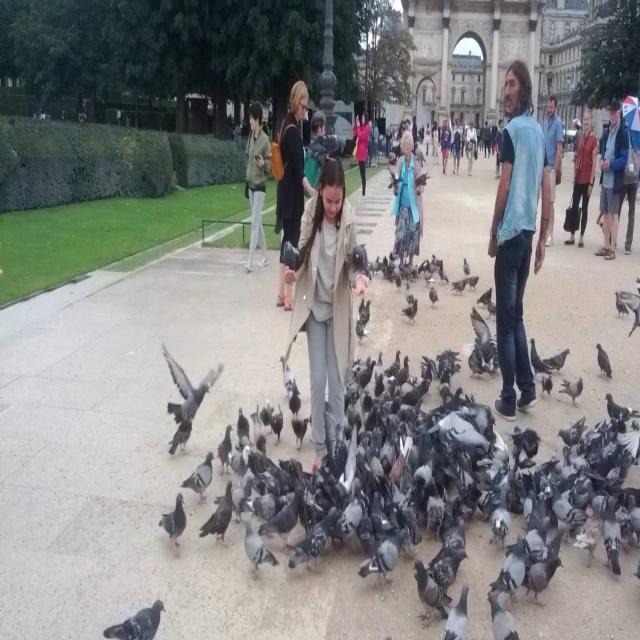body: (279, 156, 370, 477), (485, 57, 553, 425), (269, 79, 318, 313), (592, 95, 630, 261), (561, 107, 598, 249), (244, 101, 272, 274), (391, 130, 425, 272), (540, 92, 564, 248), (304, 108, 340, 198), (608, 181, 640, 257), (351, 110, 371, 203), (365, 118, 398, 169), (226, 110, 273, 140), (473, 118, 499, 160), (464, 119, 478, 177), (452, 117, 464, 177), (440, 119, 452, 175), (494, 118, 504, 182), (571, 116, 583, 162), (460, 119, 470, 157), (432, 121, 440, 167), (410, 114, 418, 156), (431, 120, 445, 141), (423, 122, 431, 157), (32, 100, 46, 120), (449, 119, 456, 158), (398, 116, 410, 137), (598, 127, 606, 157), (115, 105, 124, 128), (417, 122, 425, 145), (59, 103, 67, 125), (561, 118, 565, 159)
